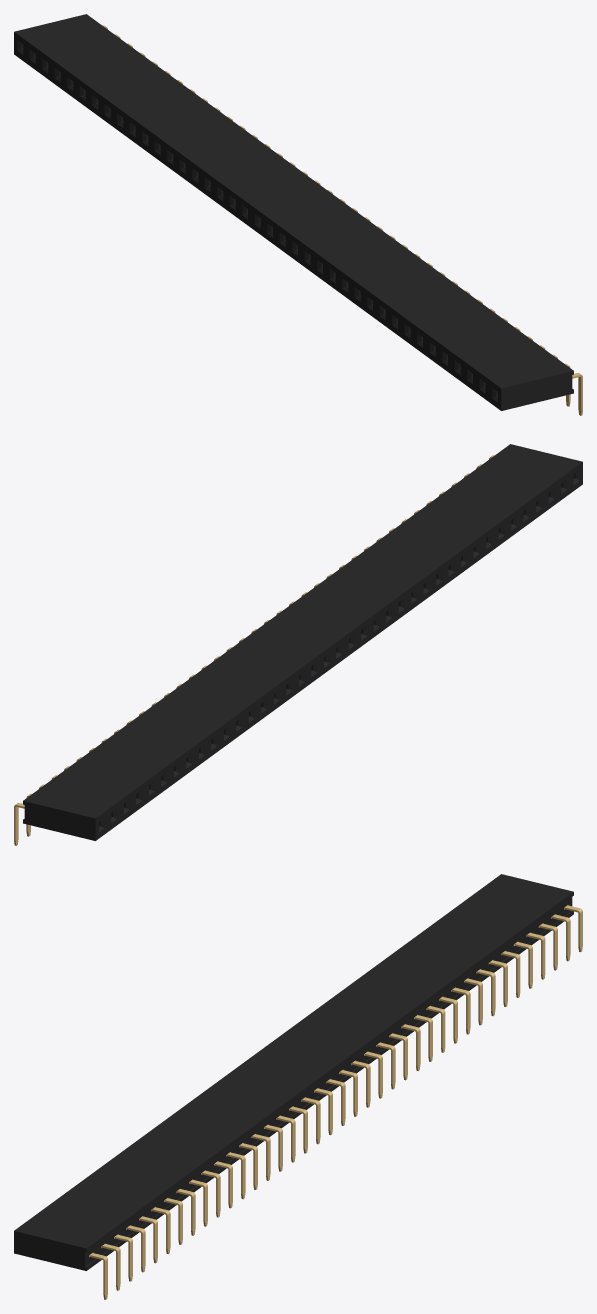
File: kc-pinsocket_1x39_p2.54mm_horizontal.glb
3 renders of one model, top to bottom at view 1: azimuth 30°, elevation 25°; view 2: azimuth 150°, elevation 25°; view 3: azimuth 330°, elevation 25°, orthographic.
Parts seen in each view (by area): view 1: 0_0_0_0, 0.75_0.5_0.25_0.9; view 2: 0_0_0_0, 0.75_0.5_0.25_0.9; view 3: 0_0_0_0, 0.75_0.5_0.25_0.9.
Part boxes in pixels (box(x1,y1,x2,y2)): 0_0_0_0: box(14, 14, 573, 410); 0.75_0.5_0.25_0.9: box(102, 25, 582, 415); 0_0_0_0: box(23, 444, 582, 840); 0.75_0.5_0.25_0.9: box(14, 455, 494, 845); 0_0_0_0: box(14, 874, 573, 1270); 0.75_0.5_0.25_0.9: box(89, 905, 582, 1299).
Size of the model in its own units: 1.01 by 0.5842 by 9.91.
